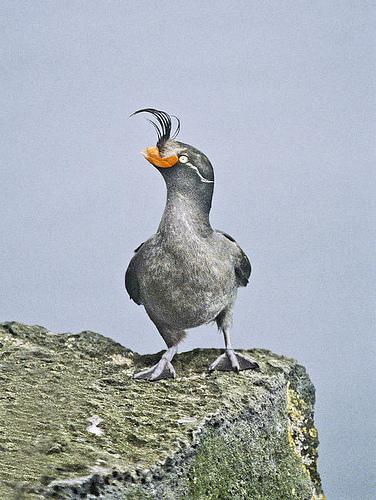005.Crested_Auklet: (122, 107, 254, 389)
